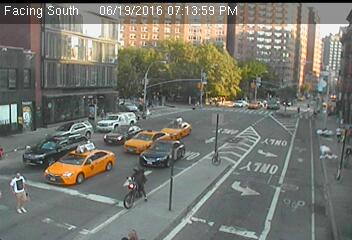neg: (118, 160, 151, 205), (301, 159, 323, 189), (256, 50, 275, 76), (226, 146, 243, 169), (226, 33, 240, 53), (56, 67, 70, 85), (75, 32, 88, 49), (220, 69, 233, 85), (252, 105, 264, 122), (197, 95, 209, 111), (139, 38, 151, 54), (186, 49, 198, 64), (261, 161, 270, 173), (187, 114, 193, 122)
pos: (2, 169, 34, 212), (99, 107, 108, 120), (296, 105, 302, 114), (306, 102, 312, 110)
